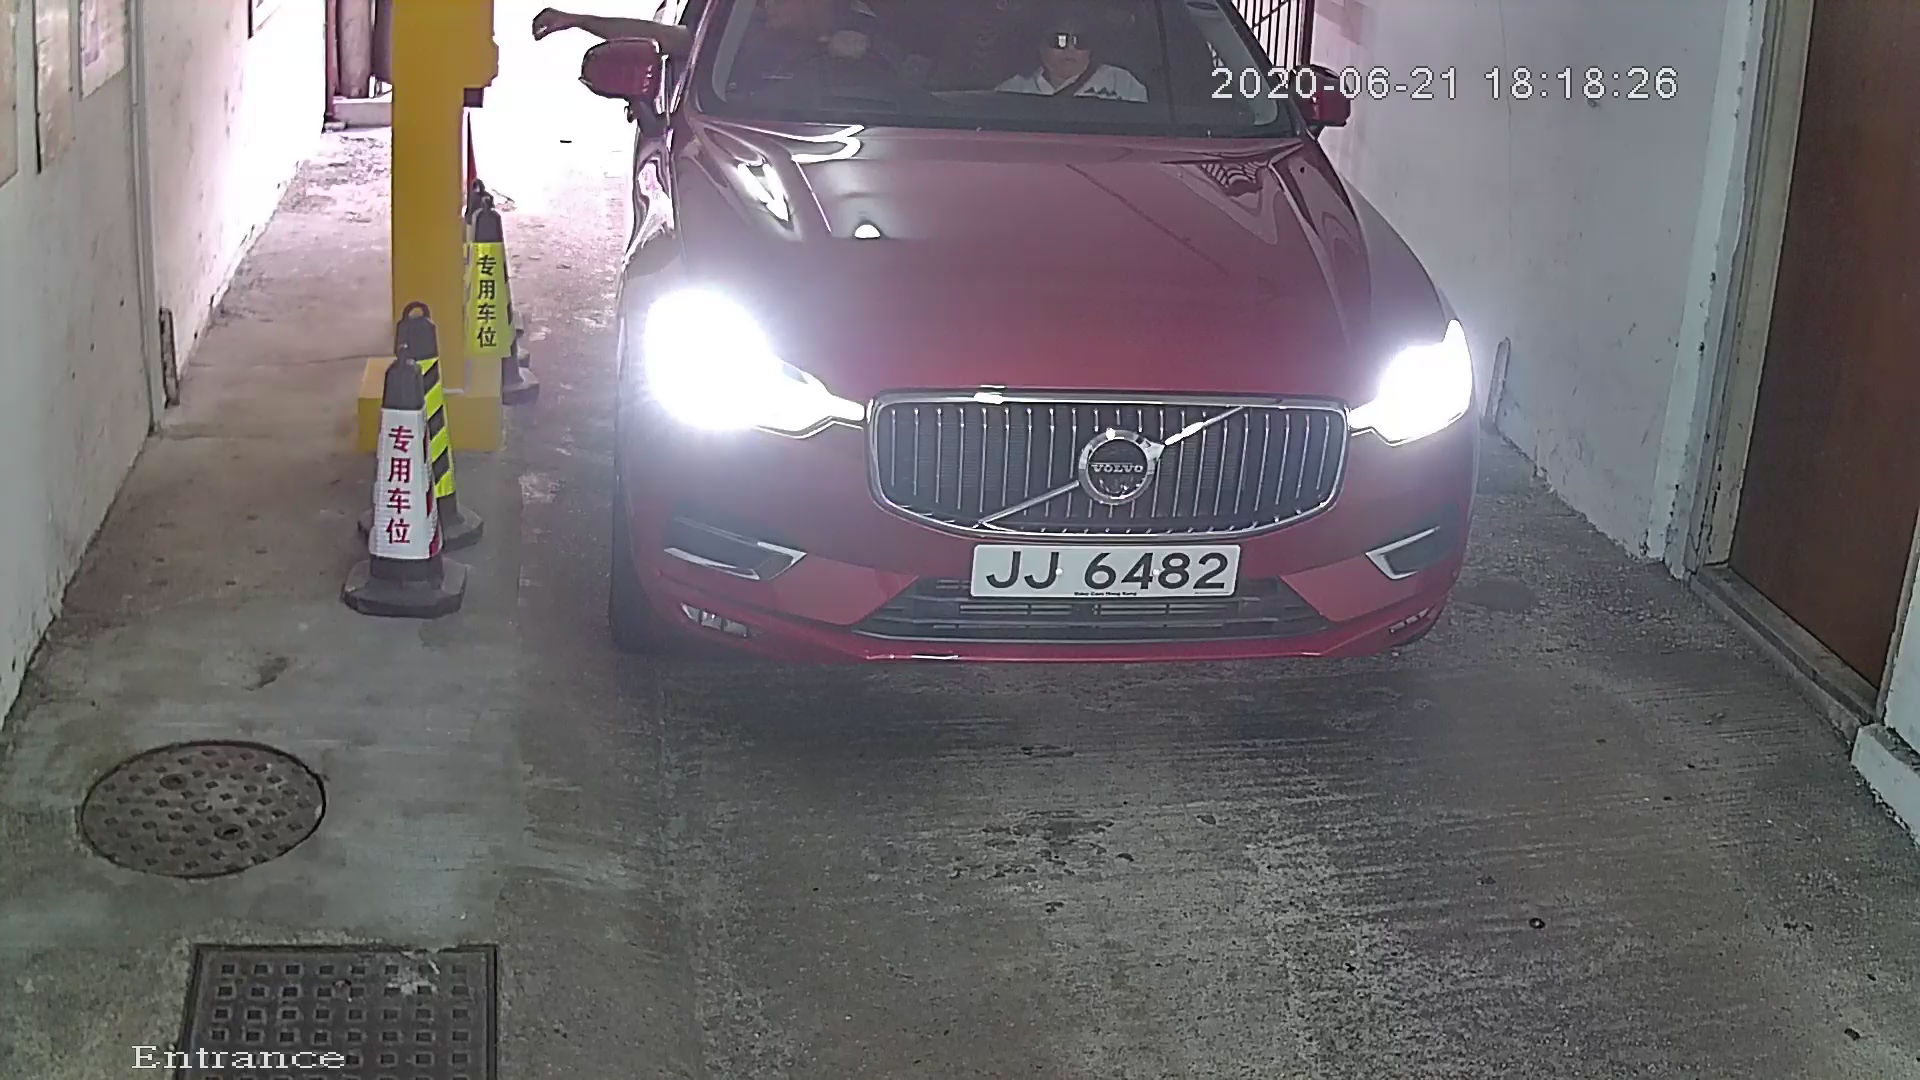privatecar: (566, 3, 1547, 779)
